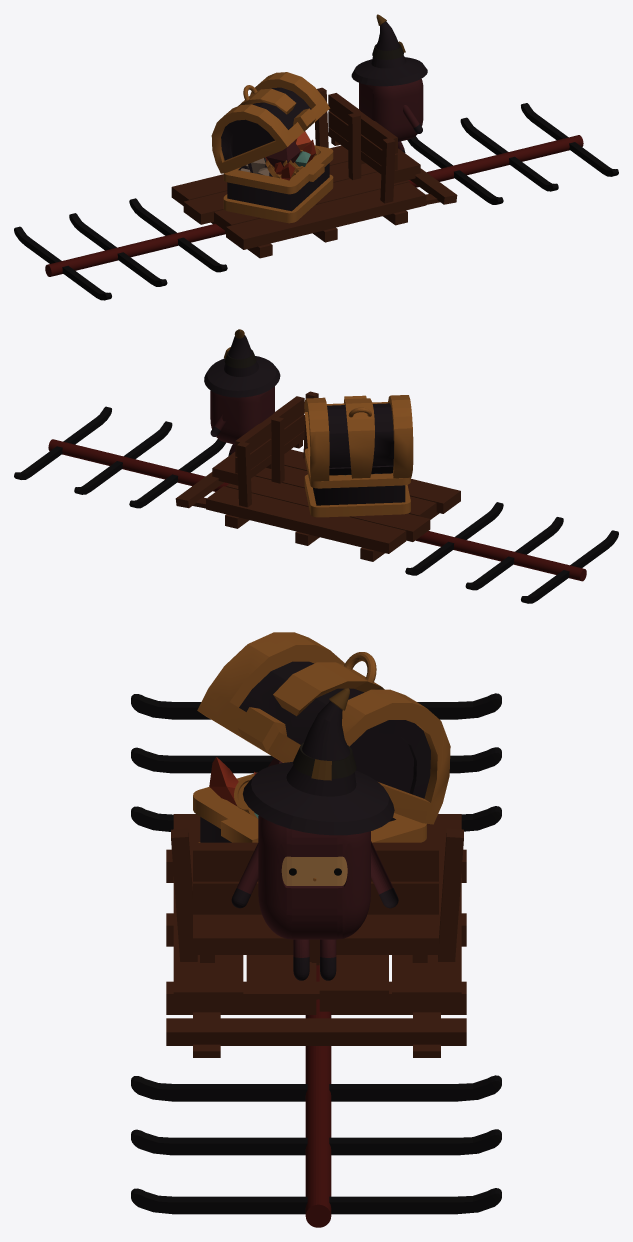
File: carriage.obj
The picture shows the model from 3 angles, top to bottom: view 1: azimuth 30°, elevation 25°; view 2: azimuth 150°, elevation 25°; view 3: azimuth 270°, elevation 25°; orthographic projection. The views are drawn at different scales.
Visible parts, largest first — view 1: carriage; view 2: carriage; view 3: carriage.
Boxes of the visible parts, bbox=[...] form: carriage: bbox=[14, 14, 618, 300]; carriage: bbox=[14, 329, 618, 603]; carriage: bbox=[131, 632, 501, 1227].
Size of the model in its own units: 10.6 by 3.32 by 3.2.
